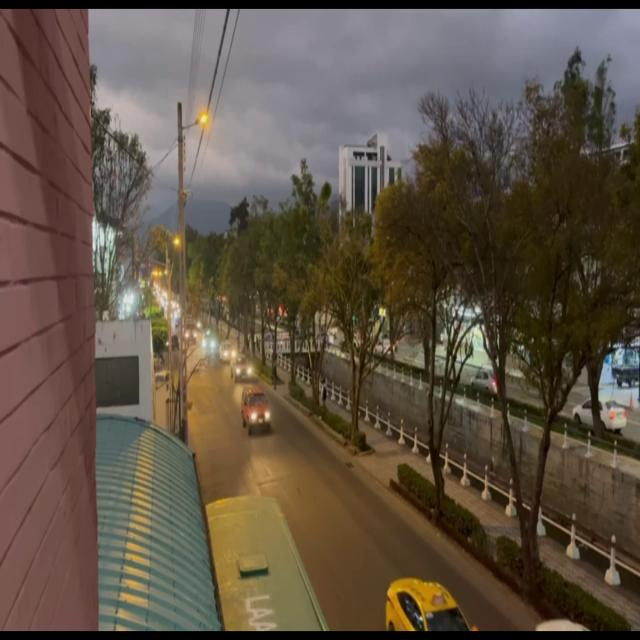SUV: (243, 390, 270, 435)
